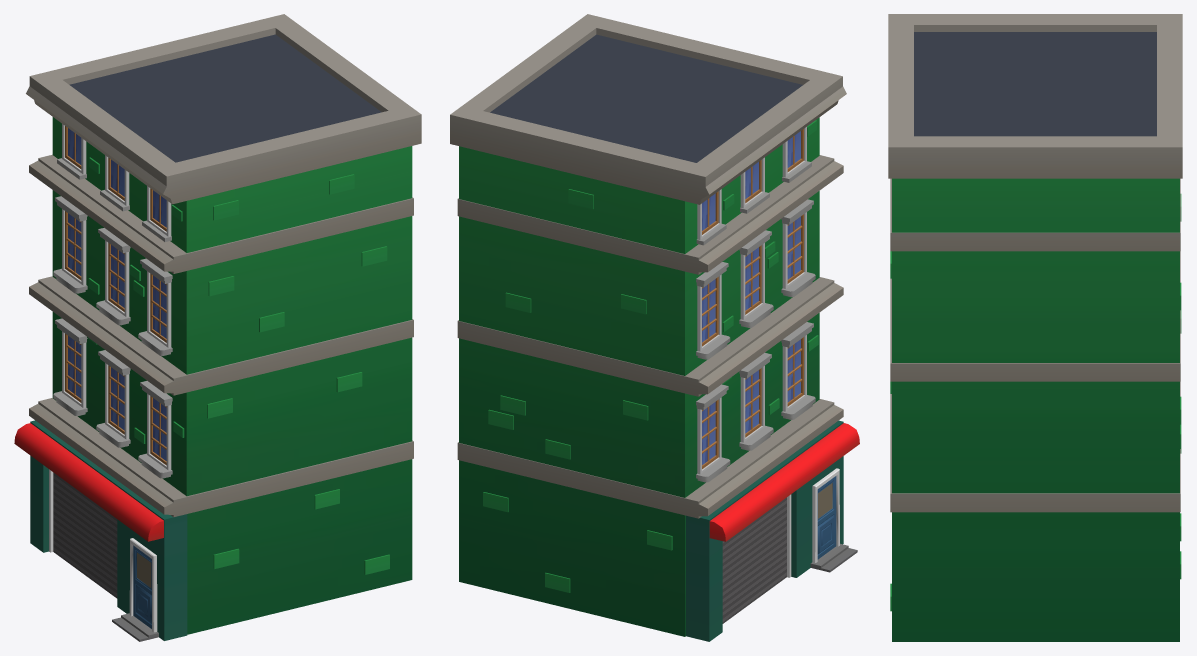
The model's file is Building_19_1_C.fbx.
3 views of the same model, side by side, from view 1: azimuth 30°, elevation 25°; view 2: azimuth 150°, elevation 25°; view 3: azimuth 270°, elevation 25° (orthographic). The views are drawn at different scales.
Visible parts, largest first — view 1: Building_19_1_C; view 2: Building_19_1_C; view 3: Building_19_1_C.
Part boxes in pixels (x1,y1,x2,y2): Building_19_1_C: (14, 14, 421, 641); Building_19_1_C: (450, 14, 859, 641); Building_19_1_C: (888, 14, 1182, 641).
Bounding box in the file's own units: 774 × 1247 × 667.
